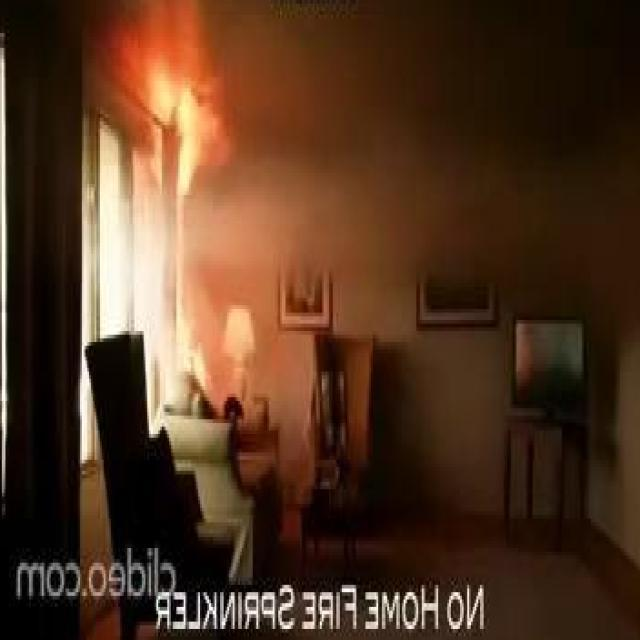smoke: (176, 70, 213, 202), (150, 63, 217, 128)
